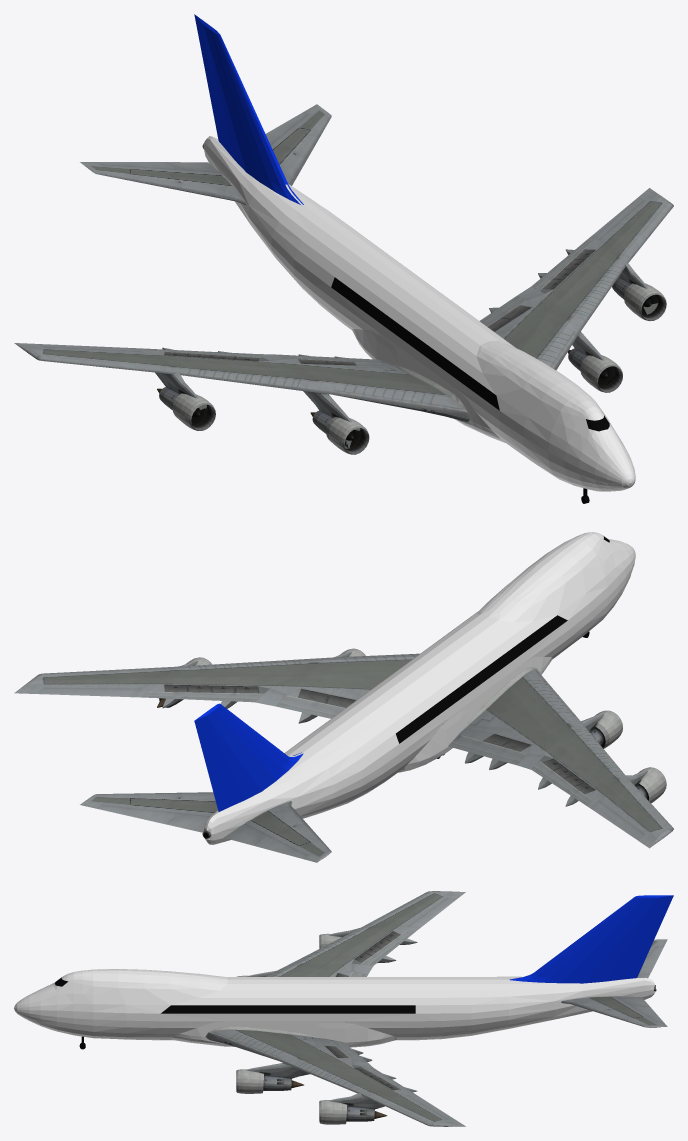
3 views of the same model, one above another, from view 1: azimuth 30°, elevation 25°; view 2: azimuth 150°, elevation 25°; view 3: azimuth 270°, elevation 25° (orthographic). The views are drawn at different scales.
Bounding box in the file's own units: 59.04 × 18 × 70.25.
1 material, 1 textured.
